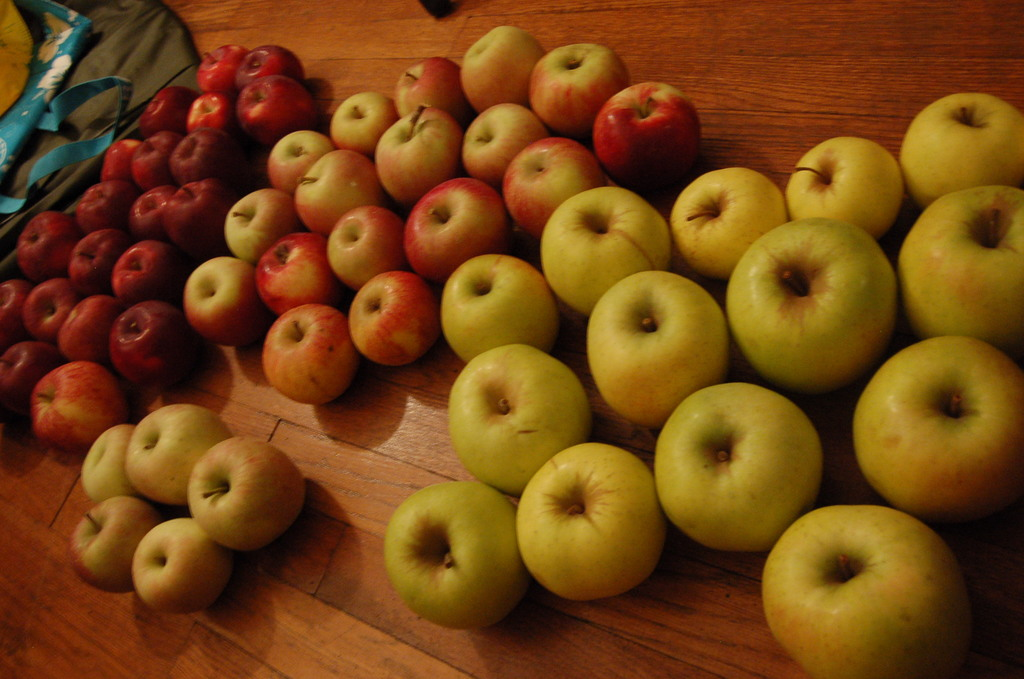Apple: (0, 23, 1023, 613), (767, 525, 983, 673)
